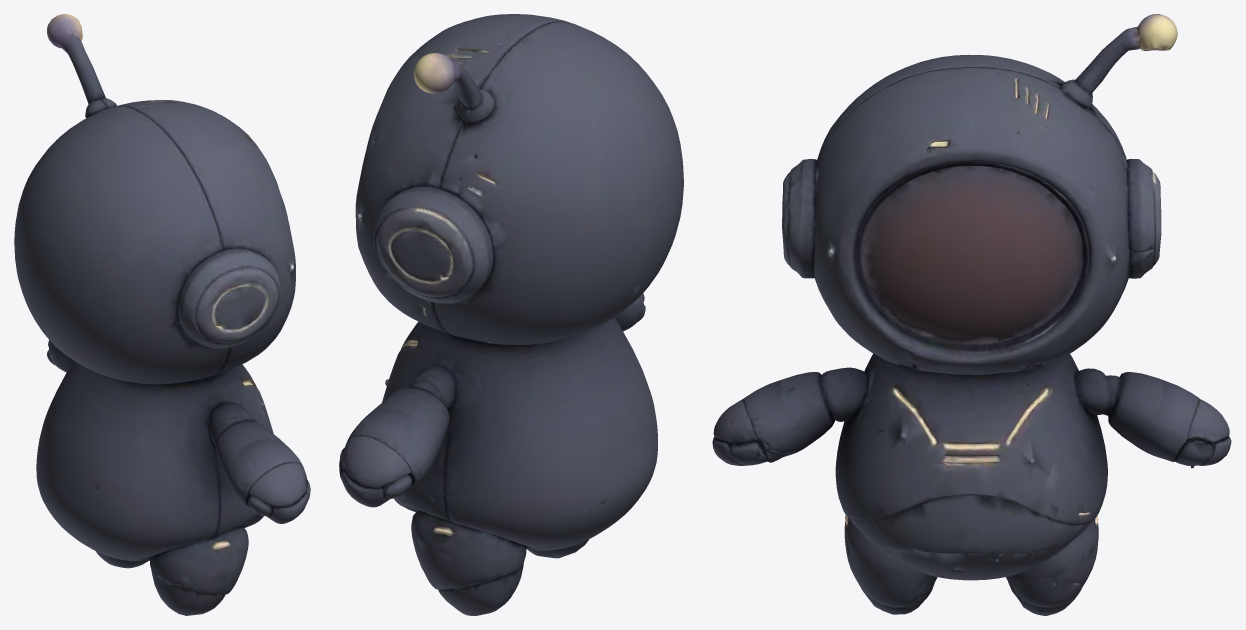
Rendered from nova.glb.
3 renders of one model, left to right at view 1: azimuth 30°, elevation 25°; view 2: azimuth 150°, elevation 25°; view 3: azimuth 270°, elevation 25°, orthographic. The views are drawn at different scales.
Parts seen in each view (by area): view 1: tripo_node_ae7725a0-2417-4dc7-bad2-d580387244cb; view 2: tripo_node_ae7725a0-2417-4dc7-bad2-d580387244cb; view 3: tripo_node_ae7725a0-2417-4dc7-bad2-d580387244cb.
Part boxes in pixels (x1,y1,x2,y2): tripo_node_ae7725a0-2417-4dc7-bad2-d580387244cb: [14, 14, 310, 615]; tripo_node_ae7725a0-2417-4dc7-bad2-d580387244cb: [339, 14, 683, 615]; tripo_node_ae7725a0-2417-4dc7-bad2-d580387244cb: [712, 14, 1231, 615].
Size of the model in its own units: 0.1159 by 0.2499 by 0.2001.
Materials: 1 (1 with a texture image).
